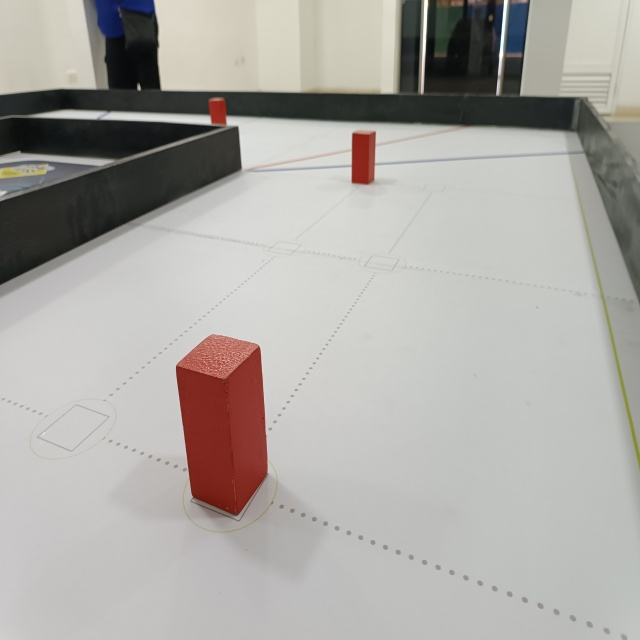blue line: (245, 149, 587, 176)
orange line: (242, 126, 463, 172)
red rectangular prism: (171, 334, 275, 519), (349, 129, 375, 186), (206, 98, 229, 128)
